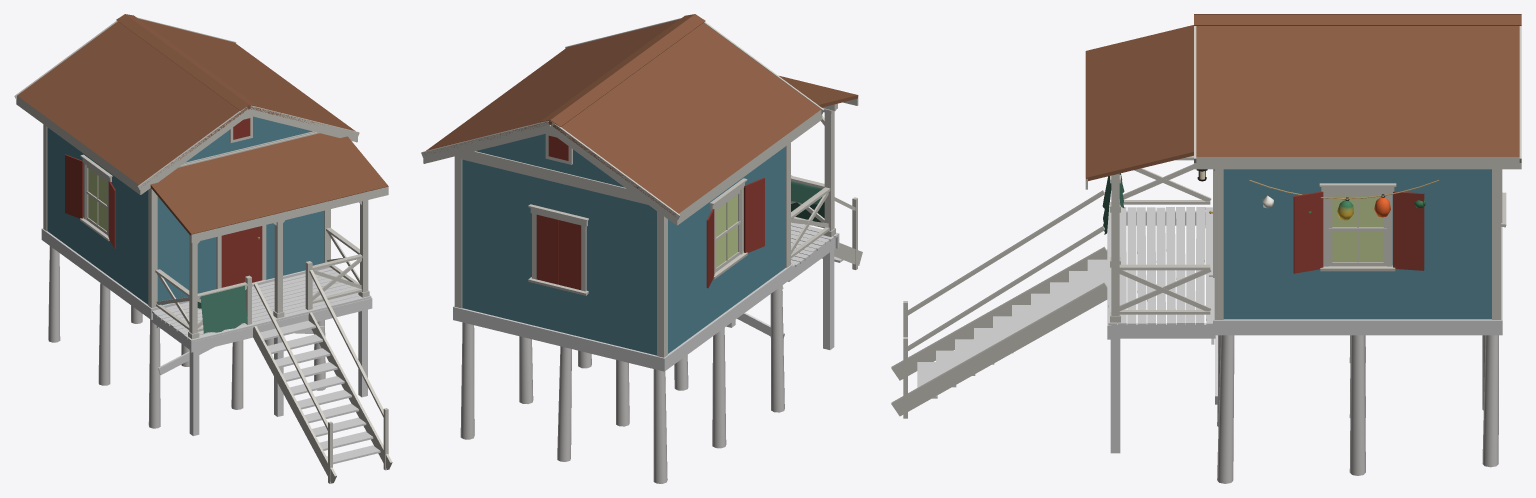
Rendered from beach-hut-s1.glb.
3 renders of one model, left to right at view 1: azimuth 30°, elevation 25°; view 2: azimuth 150°, elevation 25°; view 3: azimuth 270°, elevation 25°, orthographic. The views are drawn at different scales.
Parts seen in each view (by area): view 1: Beach hut S1; view 2: Beach hut S1; view 3: Beach hut S1.
Boxes of the visible parts, left/top/right/bottom form: Beach hut S1: left=14, top=14, right=392, bottom=483; Beach hut S1: left=421, top=14, right=862, bottom=483; Beach hut S1: left=891, top=14, right=1521, bottom=483.
Size of the model in its own units: 4.99 by 6.72 by 9.31.
